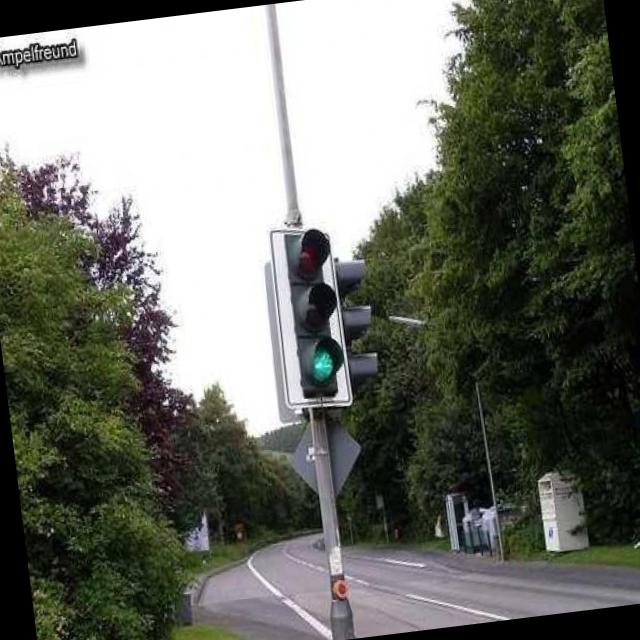green-lights: (282, 326, 370, 407)
